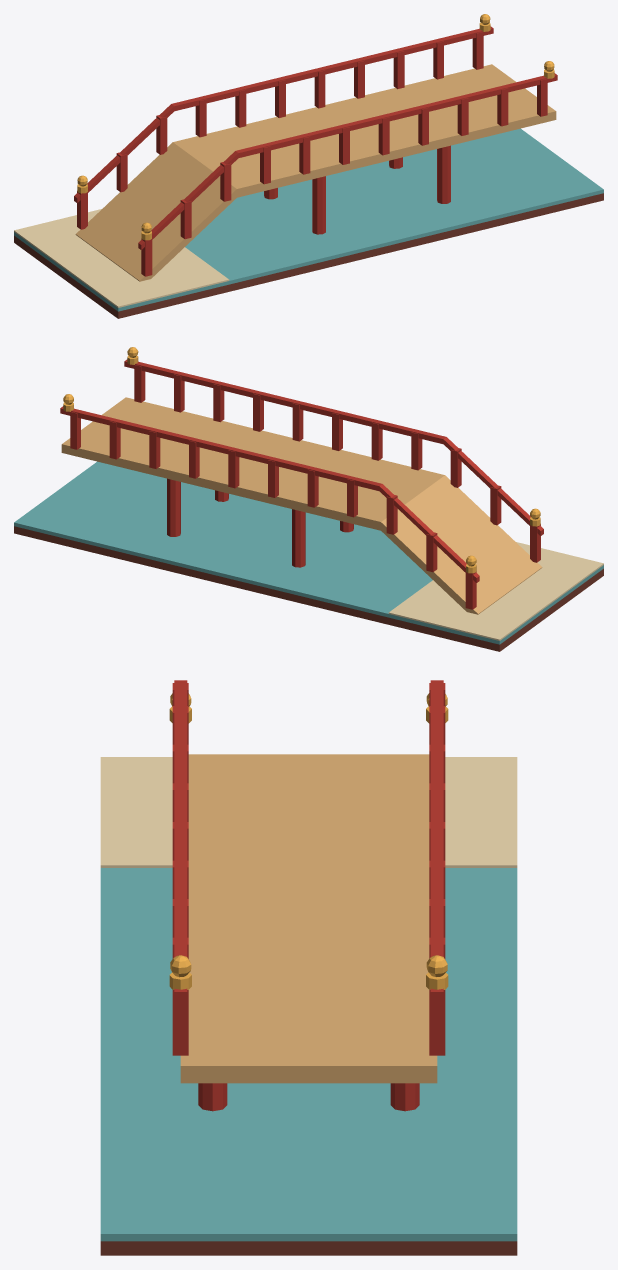
The model's file is red-bridge.glb.
The picture shows the model from 3 angles, top to bottom: view 1: azimuth 30°, elevation 25°; view 2: azimuth 150°, elevation 25°; view 3: azimuth 270°, elevation 25°; orthographic projection. The views are drawn at different scales.
Visible parts, largest first — view 1: red-bridge; view 2: red-bridge; view 3: red-bridge.
Part boxes in pixels (bbox=[...]): red-bridge: bbox=[14, 14, 603, 318]; red-bridge: bbox=[14, 347, 603, 651]; red-bridge: bbox=[100, 680, 517, 1255].
Bounding box in the file's own units: 7 × 1.83 × 2.6.
